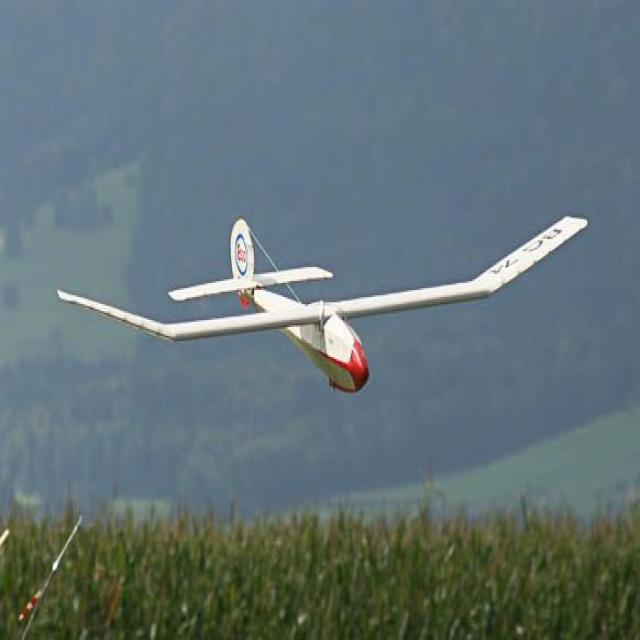iha: (54, 215, 590, 396)
